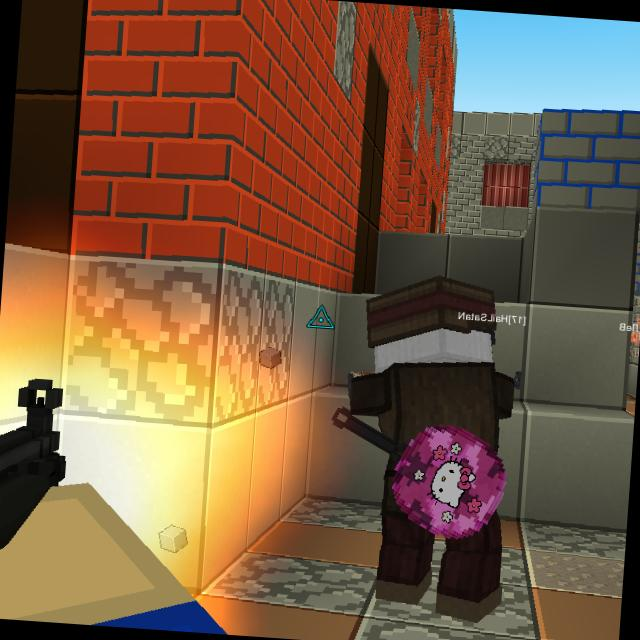enemy: (332, 265, 528, 624)
